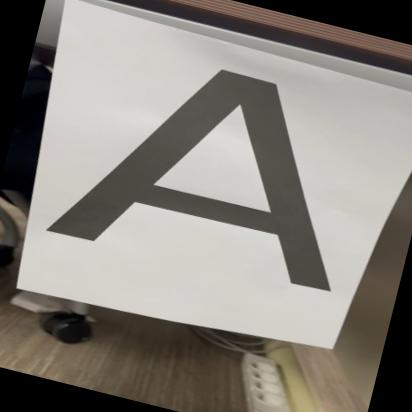seat: (31, 19, 399, 321)
